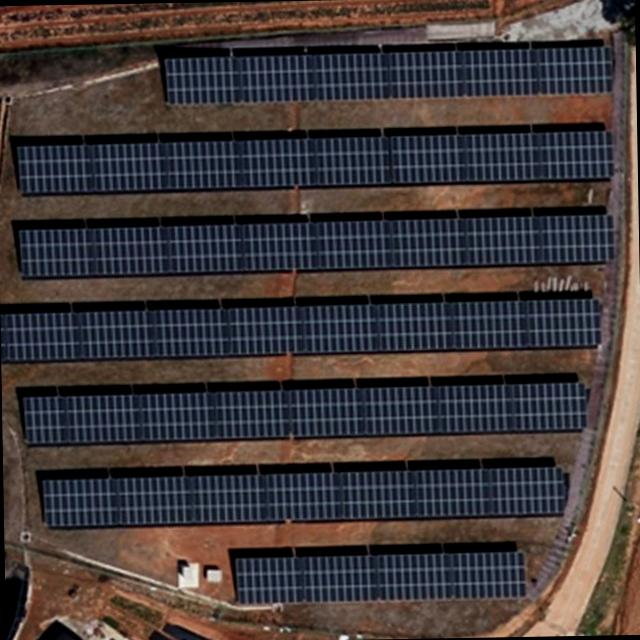solar: (1, 292, 604, 366), (20, 376, 584, 452), (14, 210, 616, 276), (12, 128, 614, 193), (38, 465, 564, 533), (160, 43, 613, 106), (229, 548, 526, 606)
